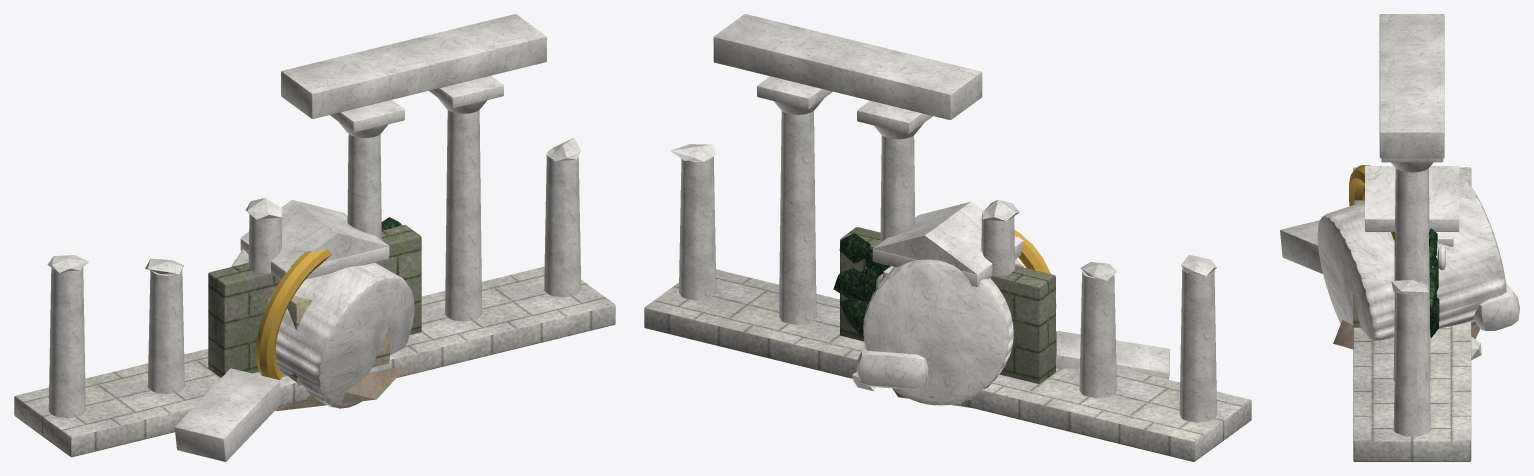
The model's file is Ruiny.glb.
3 views of the same model, side by side, from view 1: azimuth 30°, elevation 25°; view 2: azimuth 150°, elevation 25°; view 3: azimuth 270°, elevation 25° (orthographic). The views are drawn at different scales.
Visible parts, largest first — view 1: kolumnada_ruin__marble, kolumnada_ruin__blocks_marble, glowa_posagu__marble, mur_z_bluszczem__blocks_mossy, naiskos__marble, glowa_posagu__gold, dlon_posagu__ground_scattered, naiskos__blocks; view 2: kolumnada_ruin__marble, kolumnada_ruin__blocks_marble, glowa_posagu__marble, mur_z_bluszczem__blocks_mossy, naiskos__marble, mur_z_bluszczem__leaf_ivy, glowa_posagu__gold; view 3: kolumnada_ruin__marble, glowa_posagu__marble, kolumnada_ruin__blocks_marble, naiskos__marble, mur_z_bluszczem__leaf_ivy, glowa_posagu__gold, dlon_posagu__ground_scattered.
Boxes of the visible parts, x1,y1,x2,y2 form: kolumnada_ruin__marble: (47,14,581,461); kolumnada_ruin__blocks_marble: (14,266,615,457); glowa_posagu__marble: (231,249,414,408); mur_z_bluszczem__blocks_mossy: (208,225,421,377); naiskos__marble: (240,199,389,279); glowa_posagu__gold: (256,249,331,379); dlon_posagu__ground_scattered: (275,365,407,411); naiskos__blocks: (287,295,389,385); kolumnada_ruin__marble: (670,14,1216,422); kolumnada_ruin__blocks_marble: (644,269,1251,461); glowa_posagu__marble: (852,258,1021,405); mur_z_bluszczem__blocks_mossy: (840,227,1055,383); naiskos__marble: (872,201,1023,288); mur_z_bluszczem__leaf_ivy: (833,233,890,337); glowa_posagu__gold: (1014,230,1056,308); kolumnada_ruin__marble: (1280,14,1444,436); glowa_posagu__marble: (1317,175,1519,359); kolumnada_ruin__blocks_marble: (1353,167,1471,461); naiskos__marble: (1365,166,1459,270); mur_z_bluszczem__leaf_ivy: (1429,228,1439,337); glowa_posagu__gold: (1349,165,1394,240); dlon_posagu__ground_scattered: (1333,320,1480,349).
Bounding box in the file's own units: 22 × 12.04 × 8.12.
Materials: 7 (6 with a texture image).
